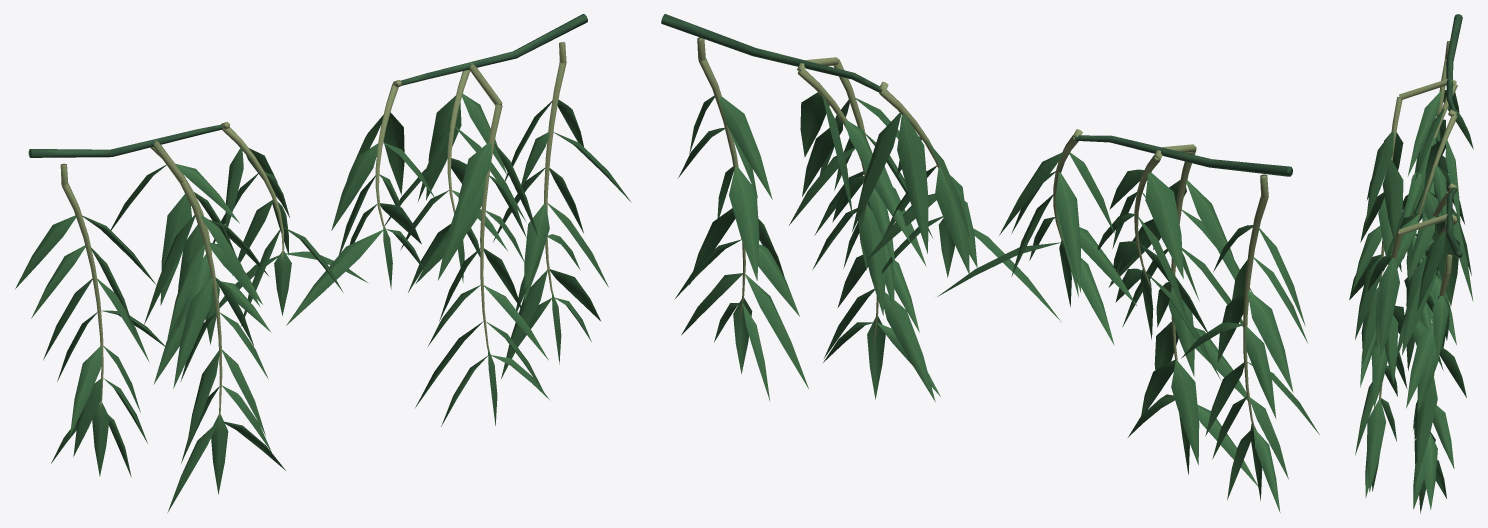
The model's file is nyanisyarud-bamboo-sasa.glb.
3 views of the same model, side by side, from view 1: azimuth 30°, elevation 25°; view 2: azimuth 150°, elevation 25°; view 3: azimuth 270°, elevation 25° (orthographic). The views are drawn at different scales.
Parts seen in each view (by area): view 1: Silken bamboo leaves, Branches, Jade bamboo; view 2: Silken bamboo leaves, Branches, Jade bamboo; view 3: Silken bamboo leaves, Branches, Jade bamboo.
Part boxes in pixels (<box>): Silken bamboo leaves: <box>15,94,631,512</box>; Branches: <box>60,42,566,417</box>; Jade bamboo: <box>28,14,587,157</box>; Silken bamboo leaves: <box>674,92,1319,512</box>; Branches: <box>697,37,1268,428</box>; Jade bamboo: <box>661,14,1292,176</box>; Silken bamboo leaves: <box>1349,90,1473,513</box>; Branches: <box>1379,41,1457,399</box>; Jade bamboo: <box>1446,14,1462,258</box>.
Size of the model in its own units: 3.35 by 1.88 by 0.7033.
3 materials, 2 textured.
